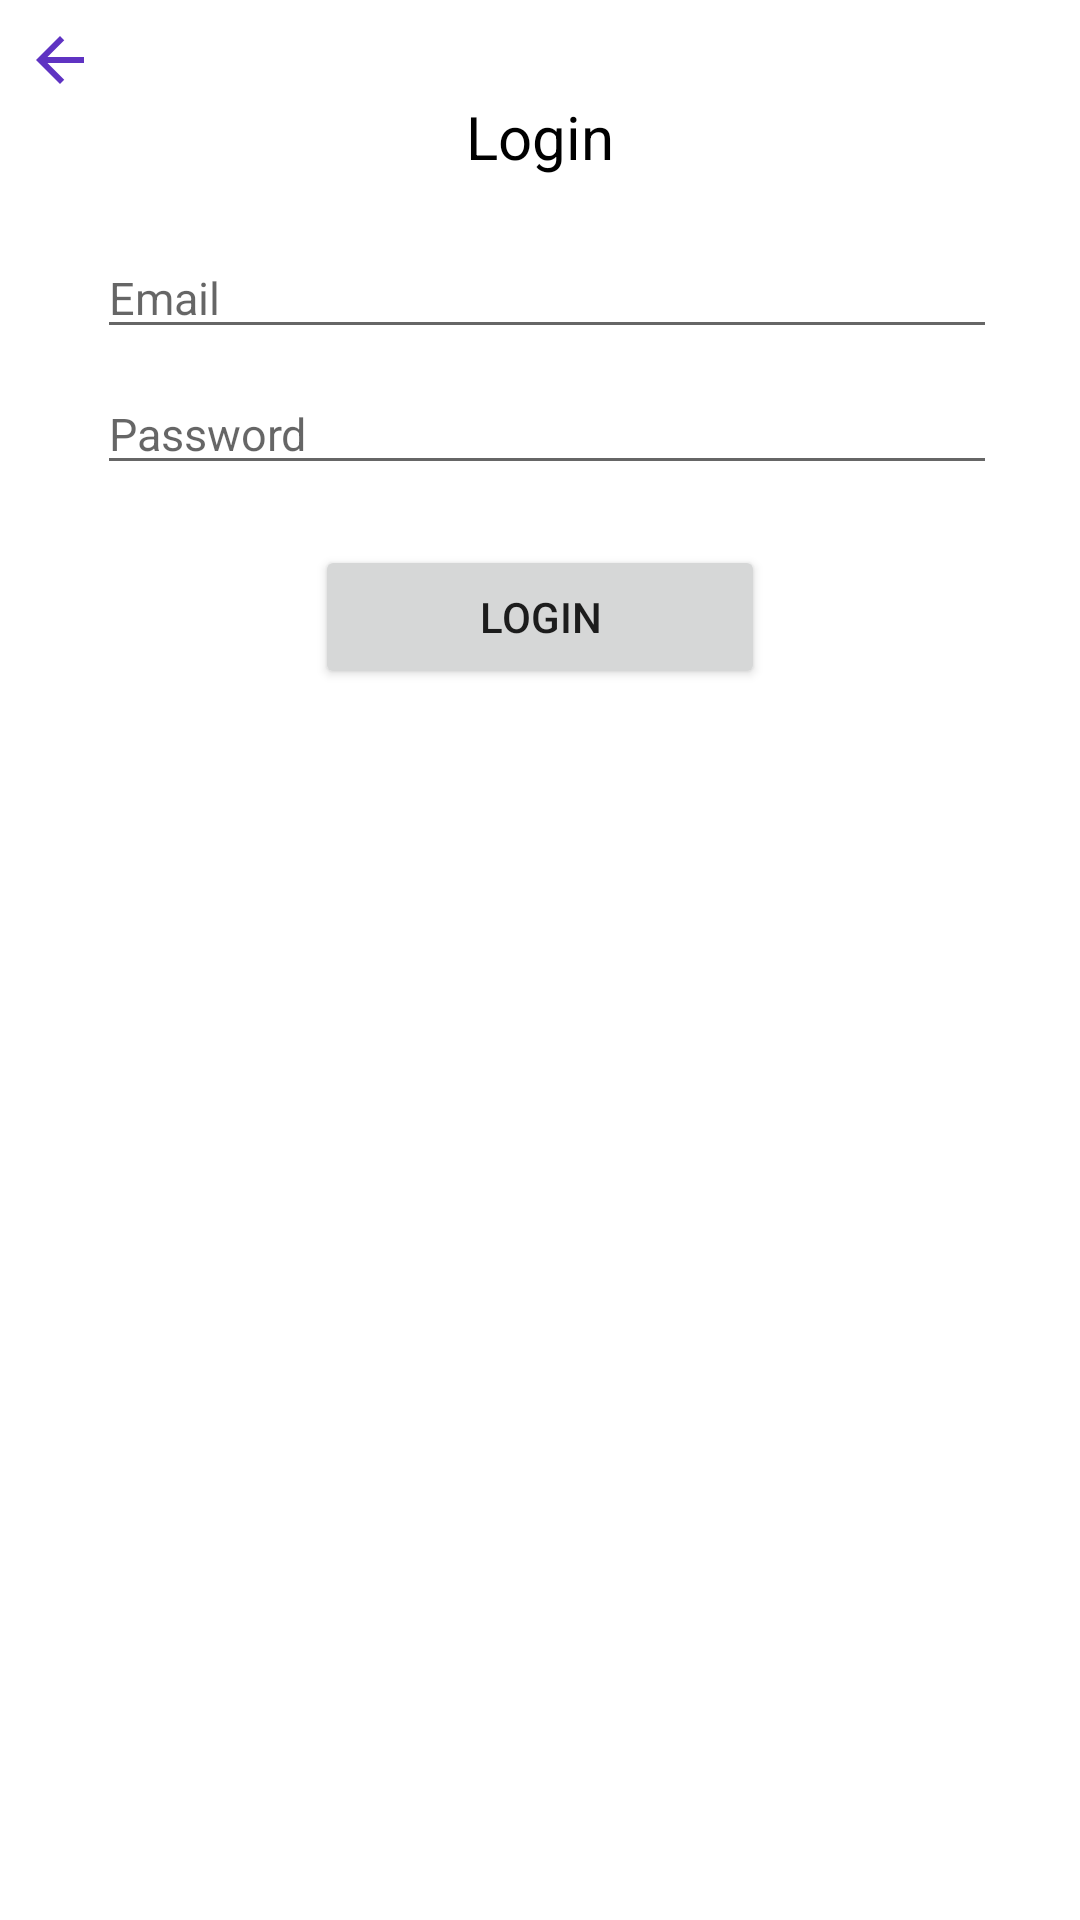

Point at icon controls on the screen. Image size 1080 × 1920, points as (x=x, y=y).
back: (x=60, y=60)
